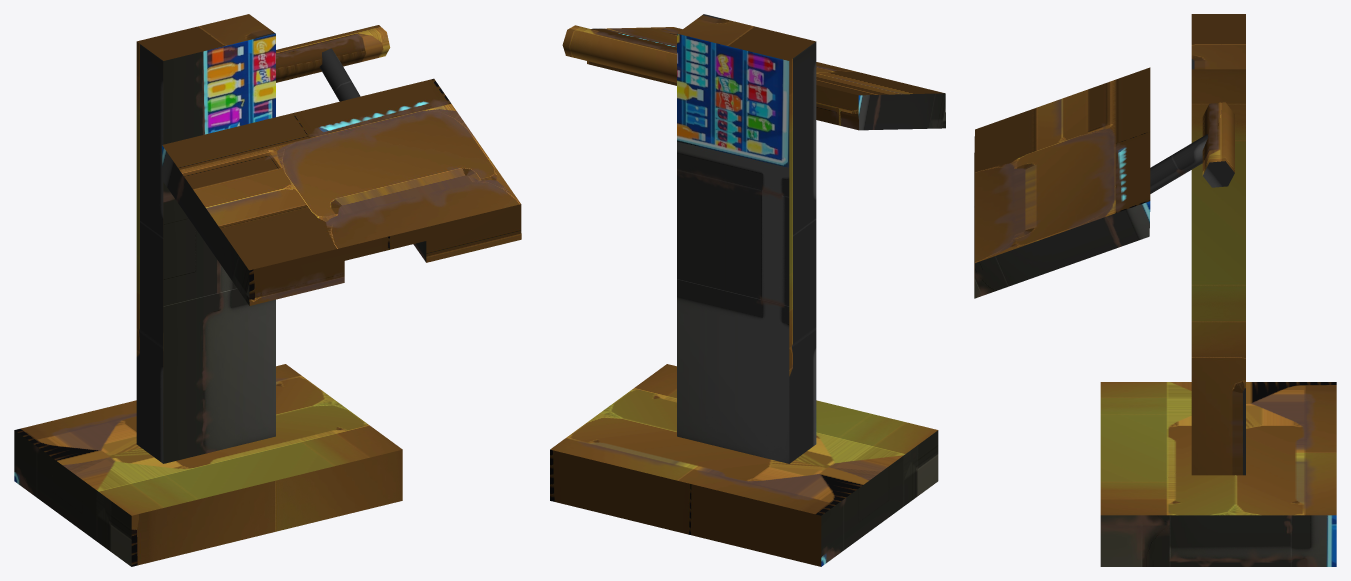
The model's file is terminal 1.fbx.
3 views of the same model, side by side, from view 1: azimuth 30°, elevation 25°; view 2: azimuth 150°, elevation 25°; view 3: azimuth 270°, elevation 25° (orthographic).
Visible parts, largest first — view 1: terminal; view 2: terminal; view 3: terminal.
Part boxes in pixels (box(x1,y1,x2,y2)): terminal: box(14, 14, 521, 566); terminal: box(550, 14, 945, 566); terminal: box(974, 14, 1336, 566).
Size of the model in its own units: 1.74 by 2.31 by 1.66.
